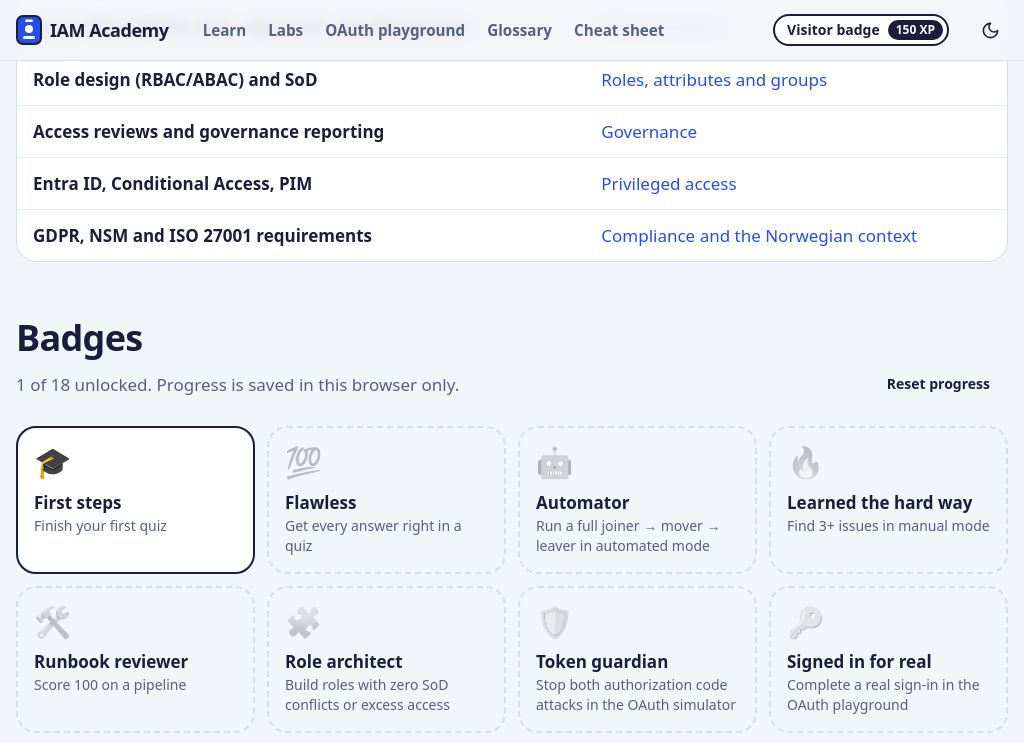
reset progress › asks for confirmation before clearing progress on the home page
The image size is (1024, 743).
(page scrolled)
Expected: the text "1 of 18 unlocked. Progress is saved in this browser only." is shown, [16,371,459,398]
Step 1. Click the button "Reset progress" → [938, 384], box [869,366,1008,402]
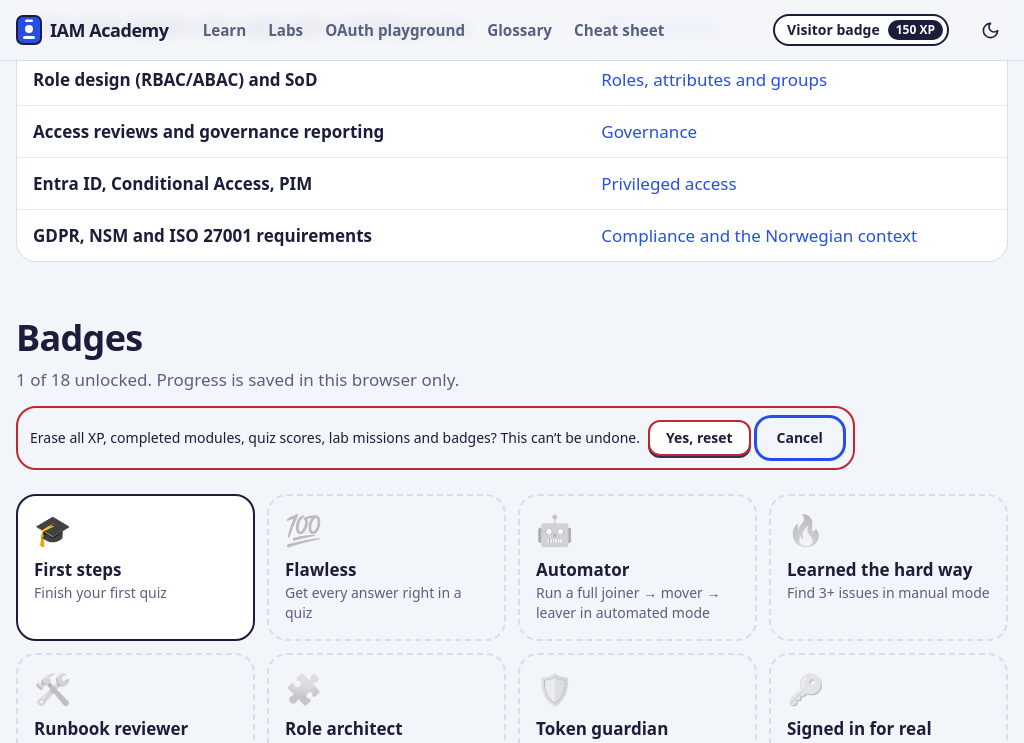
Step 2. Click the button "Cancel" → [800, 438], box [758,420,841,456]
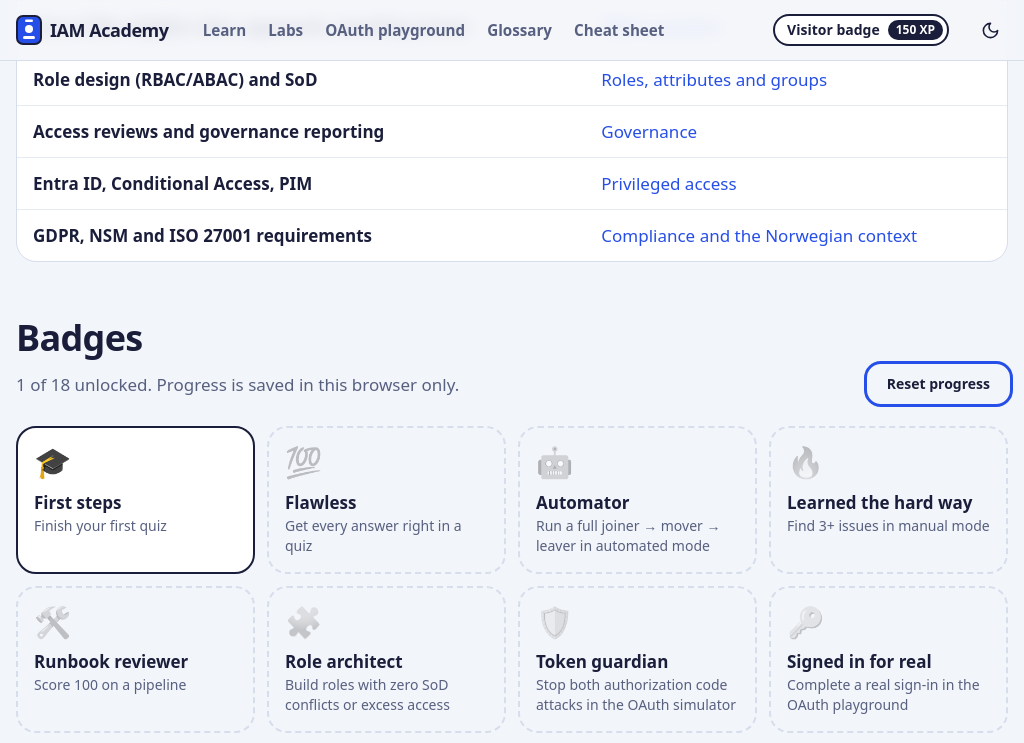
Expected: the text "1 of 18 unlocked. Progress is saved in this browser only." is shown, [16,371,459,398]
Step 3. Click the button "Reset progress" → [938, 384], box [869,366,1008,402]
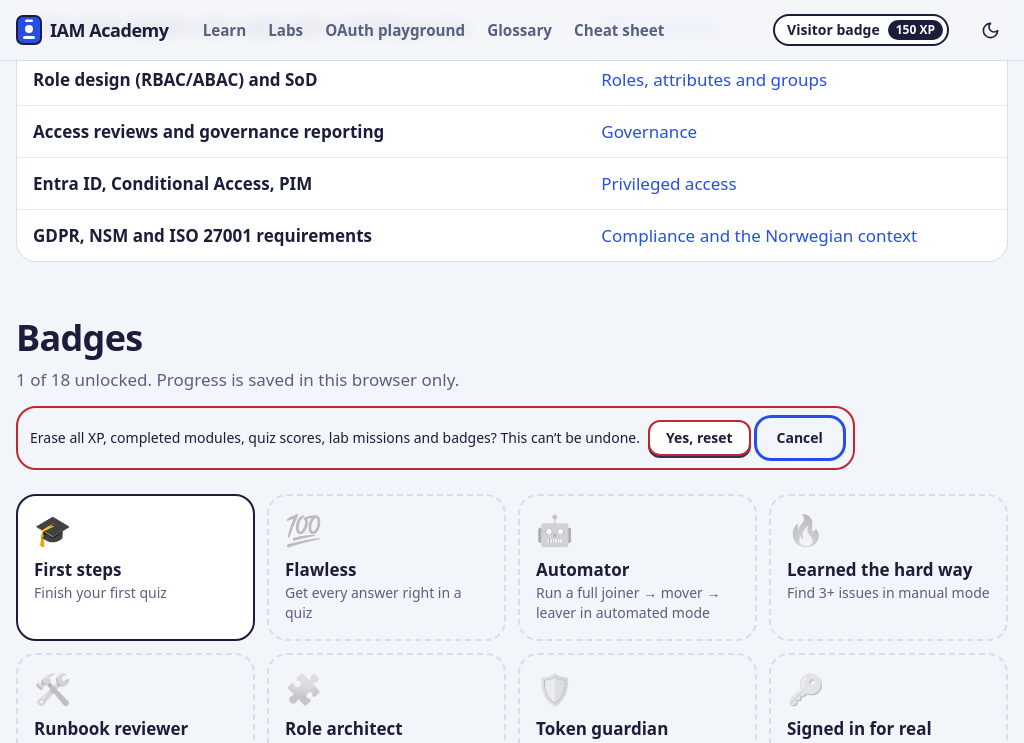
Step 4. Press Escape in the dialog, box [16,406,855,470]
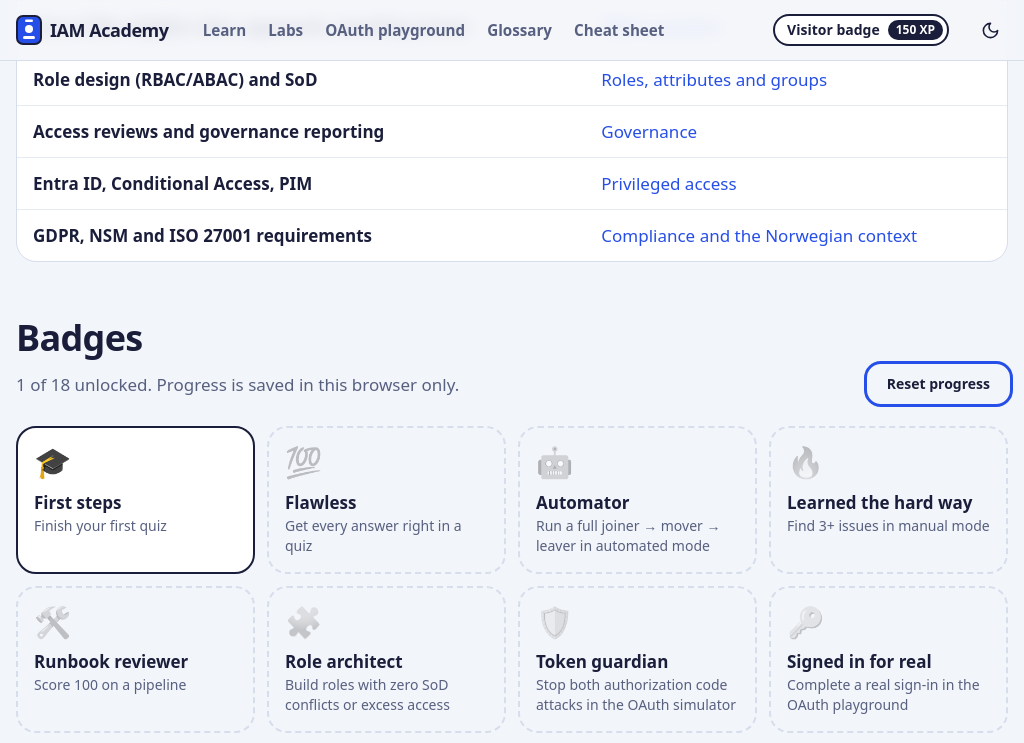
Expected: the dialog is gone
Step 5. Click the button "Reset progress" → [938, 384], box [869,366,1008,402]
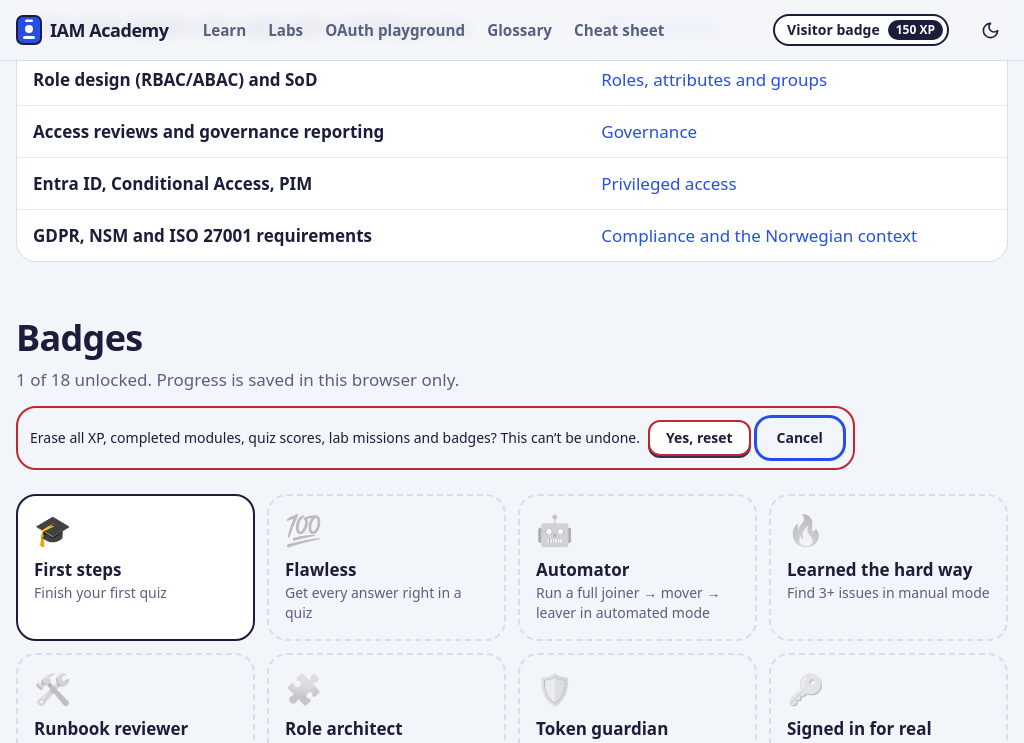
Step 6. Click the button "Yes, reset" → [699, 438], box [648,420,751,456]
(page scrolled)
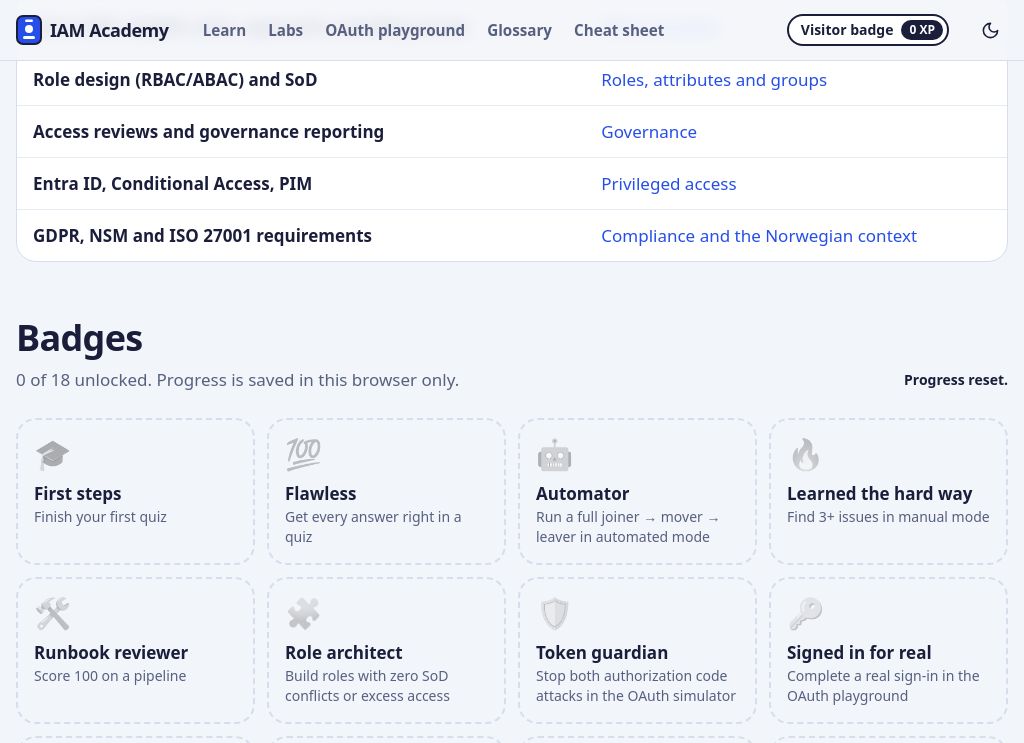
Expected: the button "Reset progress" is not shown
Expected: the text "0 of 18 unlocked. Progress is saved in this browser only." is shown, [16,366,459,394]
